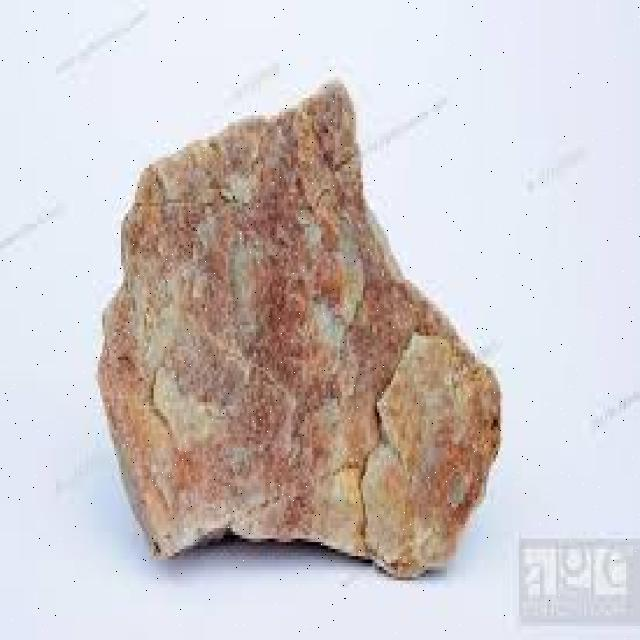Metamorphic: (74, 74, 493, 580)
